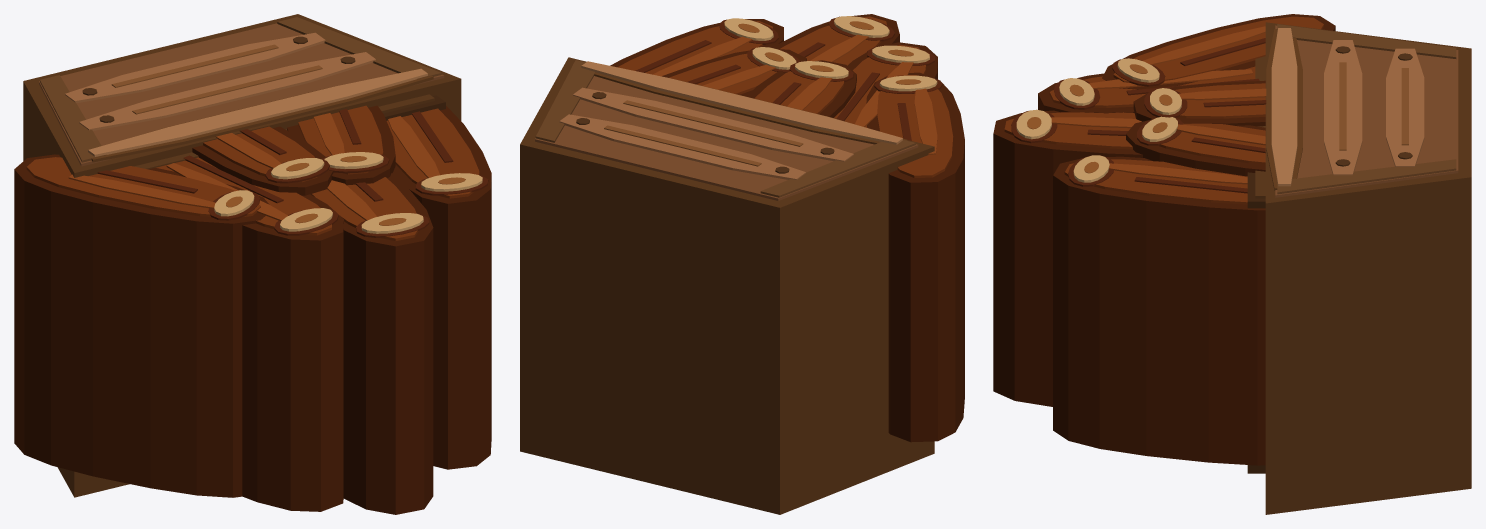
Rendered from bag_lenha.fbx.
3 views of the same model, side by side, from view 1: azimuth 30°, elevation 25°; view 2: azimuth 150°, elevation 25°; view 3: azimuth 270°, elevation 25° (orthographic). The views are drawn at different scales.
Parts seen in each view (by area): view 1: bag_lenha_mochila; view 2: bag_lenha_mochila; view 3: bag_lenha_mochila.
Part boxes in pixels (x1=…): bag_lenha_mochila: x1=14, y1=14, x2=491, y2=514; bag_lenha_mochila: x1=520, y1=14, x2=964, y2=514; bag_lenha_mochila: x1=993, y1=14, x2=1471, y2=514.
Bounding box in the file's own units: 2.56 × 1.92 × 2.62.
1 material, 1 textured.
